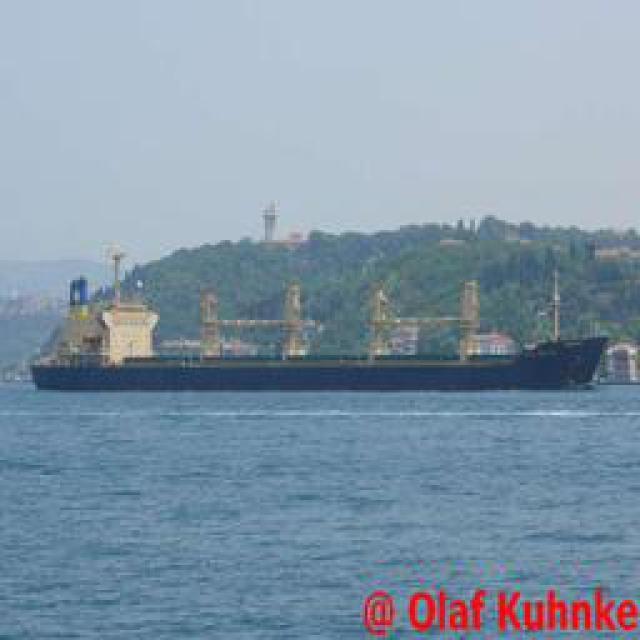Ship: (30, 296, 613, 396)
